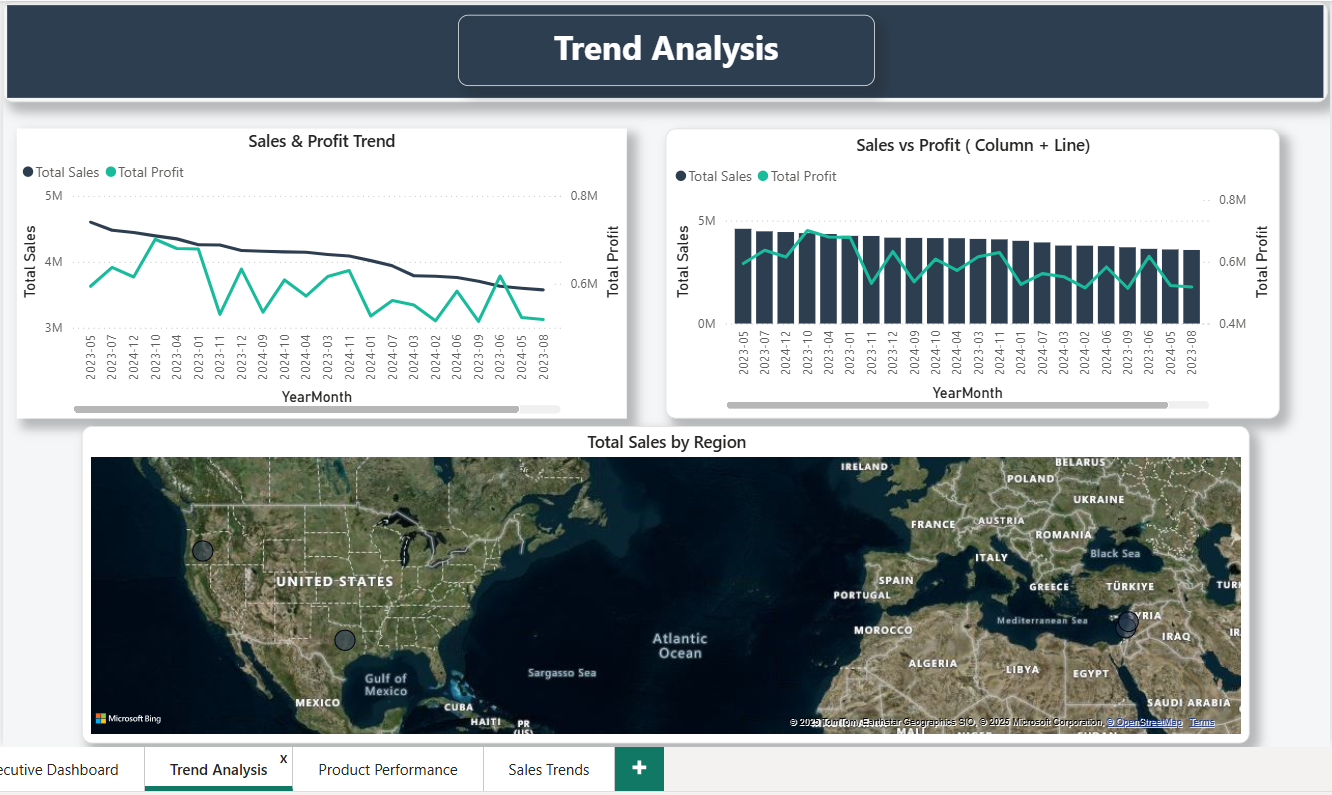

The dashboard page shown, as its layout file describes it:
{"tool":"powerbi","page":{"name":"Trend Analysis","canvas":[1280,720],"ordinal":1},"visuals":[{"type":"lineChart","title":"Sales & Profit Trend","fields":{"Category":["DimDate.YearMonth"],"Y":["FactSales.Total Sales"],"Y2":["FactSales.Total Profit"]},"box":[13.8,122.5,588.8,280],"z":0},{"type":"lineStackedColumnComboChart","title":"Sales vs Profit ( Column + Line)","fields":{"Category":["DimDate.YearMonth"],"Y":["FactSales.Total Sales"],"Y2":["FactSales.Total Profit"]},"box":[640,122.5,592.5,280],"z":1000},{"type":"map","fields":{"Category":["DimRegion.Region"],"Size":["FactSales.Total Sales"]},"box":[76.2,410,1127.5,306.2],"z":2000},{"type":"shape","box":[0,0,1278.8,97.5],"z":3000},{"type":"textbox","box":[438.8,13.8,402.5,68.8],"z":4000}]}

Visuals, with their boxes on the page's 1280x720 design canvas (x1, y1, x2, y2). These are canvas units, not pixel positions in the 1332x795 screenshot, which may show the page scaled, cropped or inside an application window:
"Sales & Profit Trend" lineChart: (14,122,603,402)
"Sales vs Profit ( Column + Line)" lineStackedColumnComboChart: (640,122,1232,402)
map - DimRegion.Region x FactSales.Total Sales: (76,410,1204,716)
shape: (0,0,1279,98)
textbox: (439,14,841,83)
